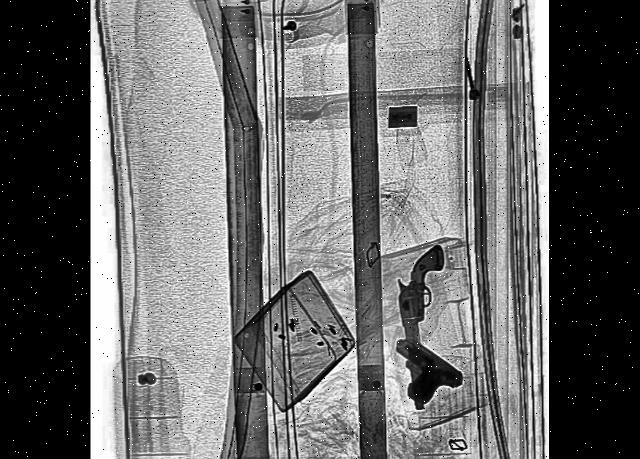Gun: (389, 240, 470, 424), (383, 312, 464, 432)
